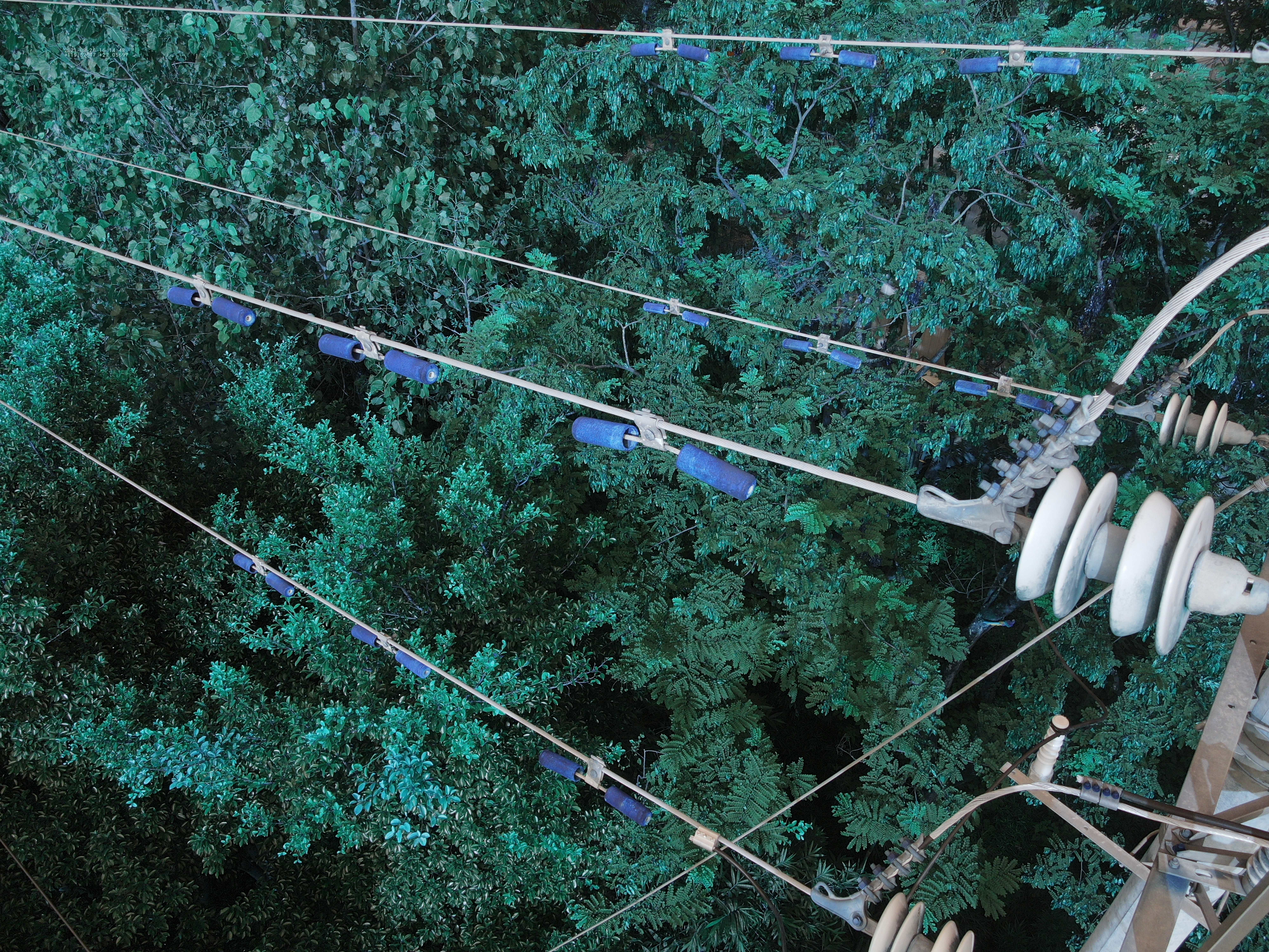severe_soiling_no_discharge_whole: (1010, 460, 1266, 658), (869, 890, 980, 951)
